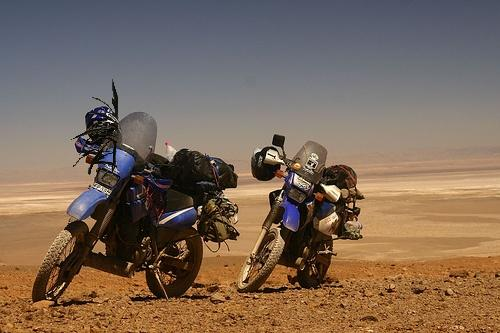tampered: (72, 80, 118, 179)
